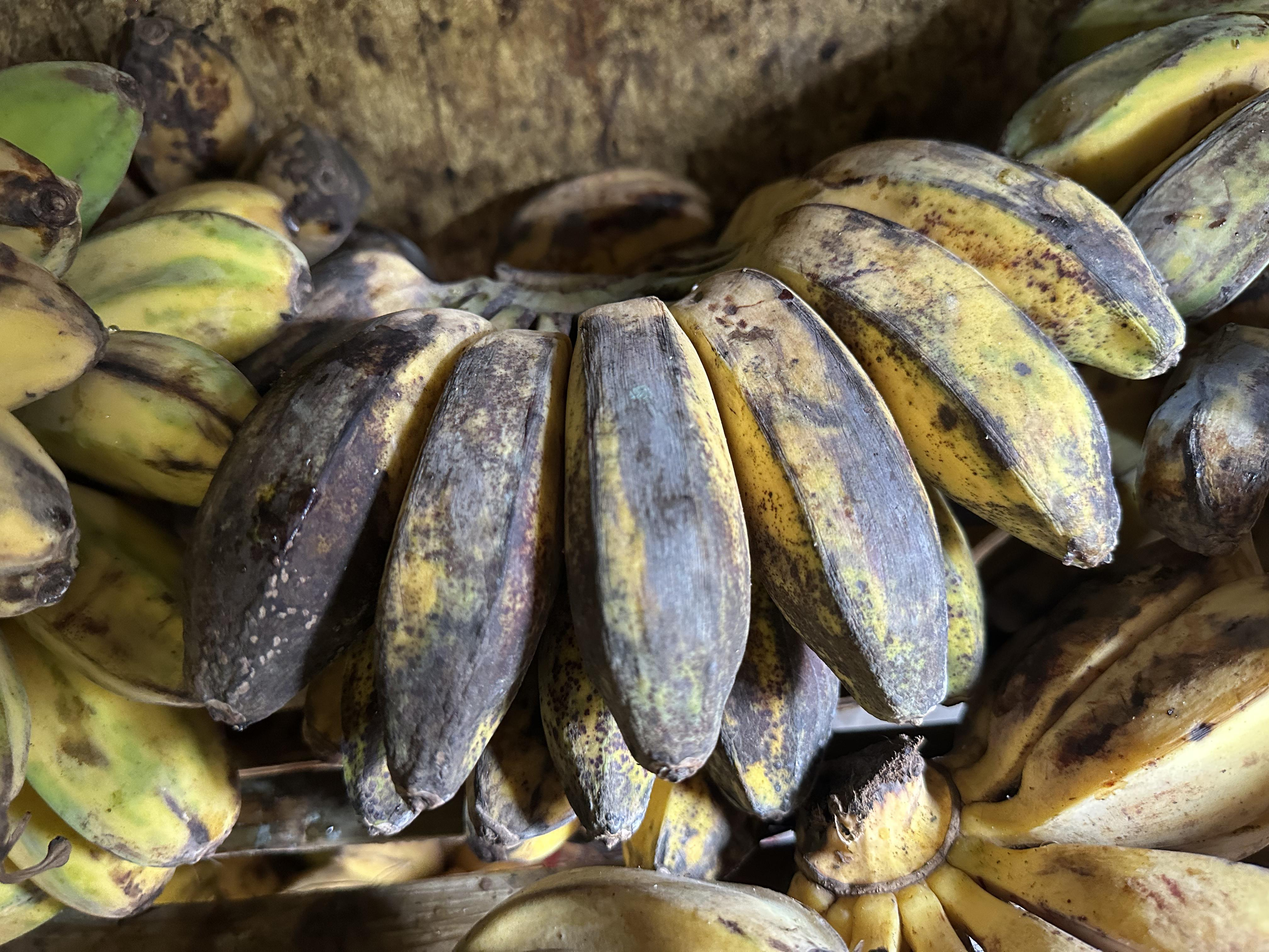overripe: (184, 140, 1185, 877)
ripe: (955, 543, 1269, 952)
underripe: (0, 62, 309, 943), (1000, 0, 1269, 321)
